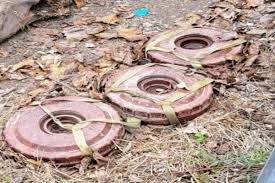car: (84, 47, 228, 134)
